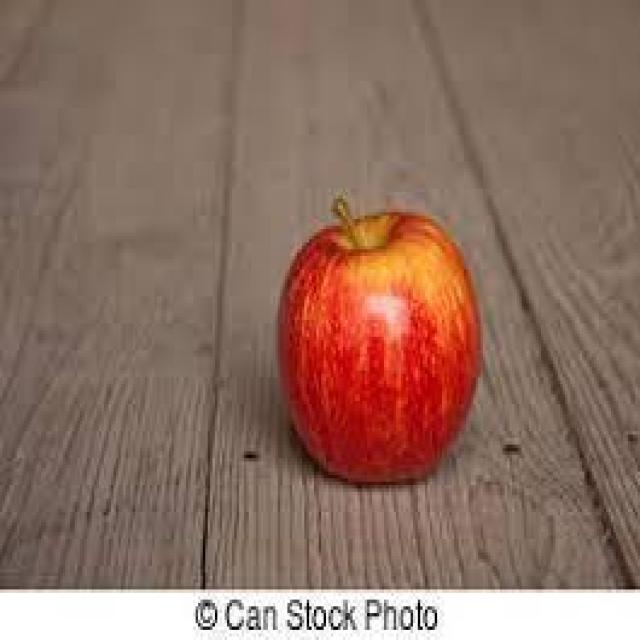maca: (275, 192, 483, 485)
